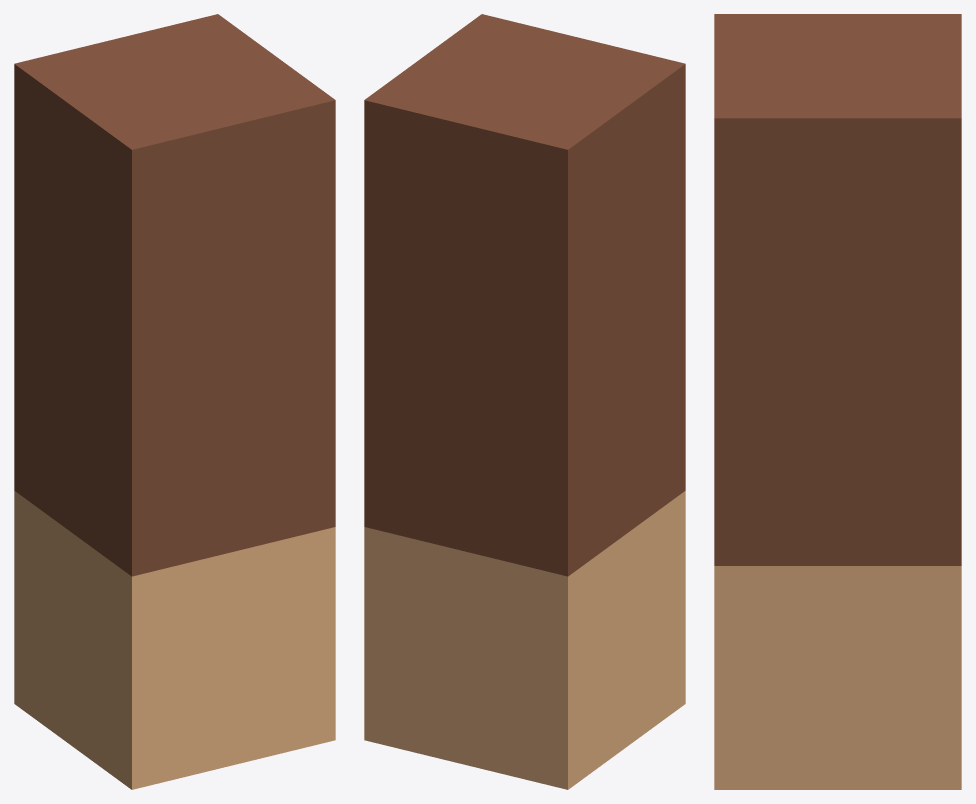
File: leftarm.obj
3 renders of one model, left to right at view 1: azimuth 30°, elevation 25°; view 2: azimuth 150°, elevation 25°; view 3: azimuth 270°, elevation 25°, orthographic. The views are drawn at different scales.
Bounding box in the file's own units: 2 × 6 × 2.
1 material, 1 textured.
